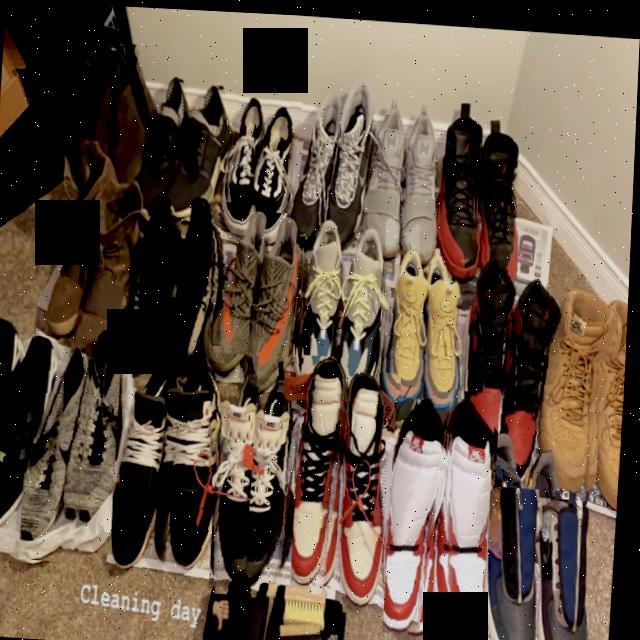shoe: (112, 341, 187, 589), (153, 339, 226, 588), (24, 335, 98, 562), (338, 363, 404, 610), (69, 318, 138, 553), (204, 350, 270, 593), (498, 263, 570, 484), (388, 392, 454, 632), (544, 268, 614, 494), (249, 351, 312, 597), (438, 383, 499, 637), (294, 351, 356, 594), (458, 244, 523, 457), (202, 197, 275, 378), (429, 85, 495, 284), (376, 228, 434, 431), (249, 208, 309, 399), (418, 235, 473, 422), (472, 107, 527, 281), (293, 209, 350, 373), (331, 220, 392, 371), (250, 96, 303, 253), (221, 83, 270, 233)
